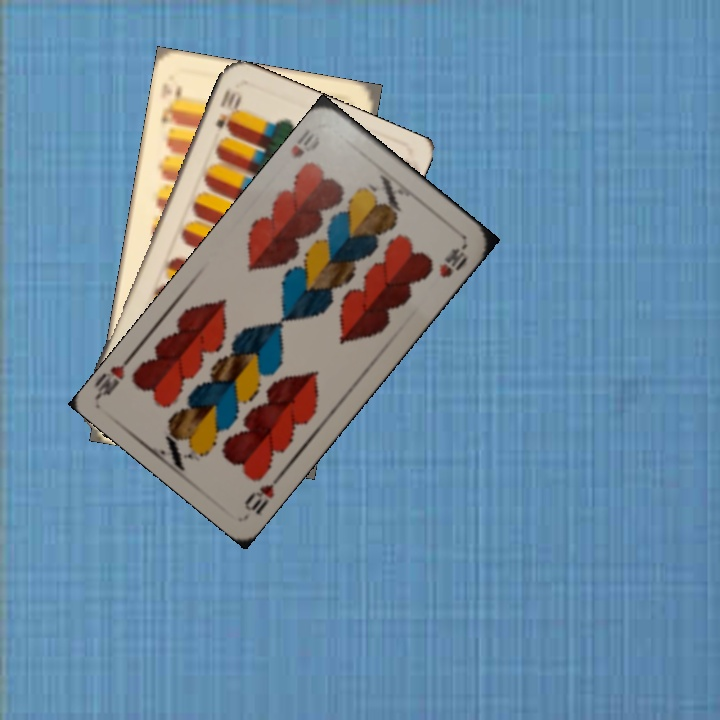E10: (211, 85, 245, 135), (157, 81, 184, 127)
H10: (240, 468, 286, 518), (286, 127, 323, 162)
